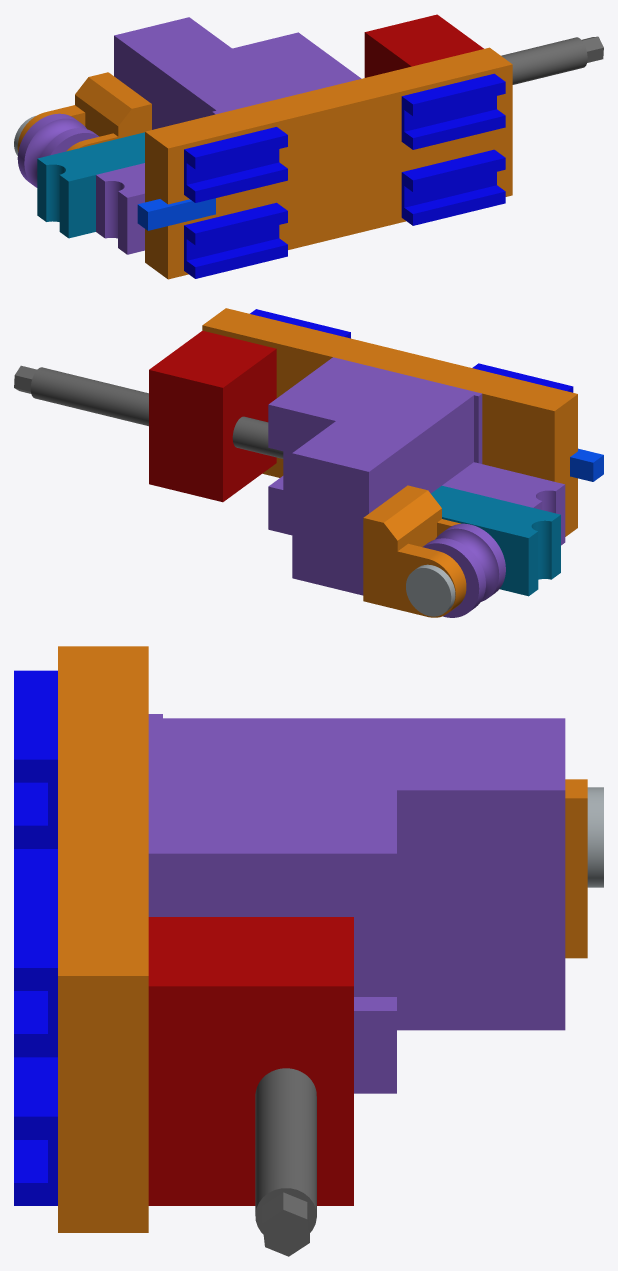
File: mengene.glb
3 views of the same model, one above another, from view 1: azimuth 30°, elevation 25°; view 2: azimuth 150°, elevation 25°; view 3: azimuth 270°, elevation 25° (orthographic). The views are drawn at different scales.
Visible parts, largest first — view 1: 02 - 15 - MENGENE TA\X2\015E\X0\IYICI, 02-08-Cene-Tasiyici-Delik-Delmeli-R1, 25X140 ERKEK \X\C7ENE, SOLID019, SOLID017, SOLID020, SOLID018, 02 - 18 - ROL\X2\0130\X0\NG -1, 02 - 14 - MENGENE KOL V\X2\0130\X0\DASI DESTEK-65 MERKEZ, 200X25 -ERKEK \X\C7ENE-ALT, 02 - 40 - KOL V\X2\0130\X0\DASI, 08 - 03 - AVARE MAKARA - 02 - ROL\X2\0130\X0\NG-\X\C7AP 027 (+1 smaller); view 2: 02-08-Cene-Tasiyici-Delik-Delmeli-R1, 02 - 15 - MENGENE TA\X2\015E\X0\IYICI, 02 - 14 - MENGENE KOL V\X2\0130\X0\DASI DESTEK-65 MERKEZ, 02 - 18 - ROL\X2\0130\X0\NG -1, 25X140 ERKEK \X\C7ENE, 02 - 40 - KOL V\X2\0130\X0\DASI, 08 - 03 - AVARE MAKARA - 02 - ROL\X2\0130\X0\NG-\X\C7AP 027, 200X25 -ERKEK \X\C7ENE-ALT, 02 - 15 - ROL\X2\0130\X0\NG P\X2\0130\X0\M\X2\0130\X0\ -MENG, 02 - 41 - TA\X2\015E\X0\IYICI TIRNAK, SOLID018, SOLID017; view 3: 02-08-Cene-Tasiyici-Delik-Delmeli-R1, 02 - 15 - MENGENE TA\X2\015E\X0\IYICI, 02 - 14 - MENGENE KOL V\X2\0130\X0\DASI DESTEK-65 MERKEZ, 02 - 40 - KOL V\X2\0130\X0\DASI, SOLID017, SOLID018, SOLID019, 02 - 18 - ROL\X2\0130\X0\NG -1, 02 - 15 - ROL\X2\0130\X0\NG P\X2\0130\X0\M\X2\0130\X0\ -MENG, SOLID020.
Part boxes in pixels (left/top/right/bottom): 02 - 15 - MENGENE TA\X2\015E\X0\IYICI: left=145, top=47, right=512, bottom=279; 02-08-Cene-Tasiyici-Delik-Delmeli-R1: left=114, top=17, right=361, bottom=129; 25X140 ERKEK \X\C7ENE: left=37, top=132, right=144, bottom=238; SOLID019: left=401, top=149, right=505, bottom=225; SOLID017: left=401, top=73, right=505, bottom=149; SOLID020: left=184, top=202, right=287, bottom=278; SOLID018: left=184, top=127, right=287, bottom=202; 02 - 18 - ROL\X2\0130\X0\NG -1: left=17, top=72, right=151, bottom=151; 02 - 14 - MENGENE KOL V\X2\0130\X0\DASI DESTEK-65 MERKEZ: left=364, top=14, right=483, bottom=77; 200X25 -ERKEK \X\C7ENE-ALT: left=96, top=163, right=144, bottom=254; 02 - 40 - KOL V\X2\0130\X0\DASI: left=501, top=36, right=603, bottom=84; 08 - 03 - AVARE MAKARA - 02 - ROL\X2\0130\X0\NG-\X\C7AP 027: left=17, top=113, right=98, bottom=187; 02-08-Cene-Tasiyici-Delik-Delmeli-R1: left=268, top=357, right=482, bottom=595; 02 - 15 - MENGENE TA\X2\015E\X0\IYICI: left=202, top=308, right=577, bottom=536; 02 - 14 - MENGENE KOL V\X2\0130\X0\DASI DESTEK-65 MERKEZ: left=149, top=330, right=276, bottom=502; 02 - 18 - ROL\X2\0130\X0\NG -1: left=363, top=485, right=466, bottom=617; 25X140 ERKEK \X\C7ENE: left=431, top=485, right=560, bottom=596; 02 - 40 - KOL V\X2\0130\X0\DASI: left=14, top=365, right=283, bottom=458; 08 - 03 - AVARE MAKARA - 02 - ROL\X2\0130\X0\NG-\X\C7AP 027: left=422, top=523, right=505, bottom=617; 200X25 -ERKEK \X\C7ENE-ALT: left=442, top=462, right=565, bottom=545; 02 - 15 - ROL\X2\0130\X0\NG P\X2\0130\X0\M\X2\0130\X0\ -MENG: left=406, top=564, right=455, bottom=616; 02 - 41 - TA\X2\015E\X0\IYICI TIRNAK: left=570, top=448, right=603, bottom=481; SOLID018: left=472, top=363, right=573, bottom=392; SOLID017: left=250, top=309, right=350, bottom=338; 02-08-Cene-Tasiyici-Delik-Delmeli-R1: left=148, top=714, right=565, bottom=1093; 02 - 15 - MENGENE TA\X2\015E\X0\IYICI: left=58, top=646, right=148, bottom=1232; 02 - 14 - MENGENE KOL V\X2\0130\X0\DASI DESTEK-65 MERKEZ: left=148, top=917, right=353, bottom=1205; 02 - 40 - KOL V\X2\0130\X0\DASI: left=255, top=1068, right=316, bottom=1256; SOLID017: left=14, top=879, right=57, bottom=1057; SOLID018: left=14, top=670, right=57, bottom=848; SOLID019: left=14, top=1057, right=57, bottom=1205; 02 - 18 - ROL\X2\0130\X0\NG -1: left=565, top=779, right=587, bottom=958; 02 - 15 - ROL\X2\0130\X0\NG P\X2\0130\X0\M\X2\0130\X0\ -MENG: left=587, top=787, right=603, bottom=887; SOLID020: left=14, top=849, right=57, bottom=878.
Size of the model in its own units: 0.5835 by 0.138 by 0.2873.
